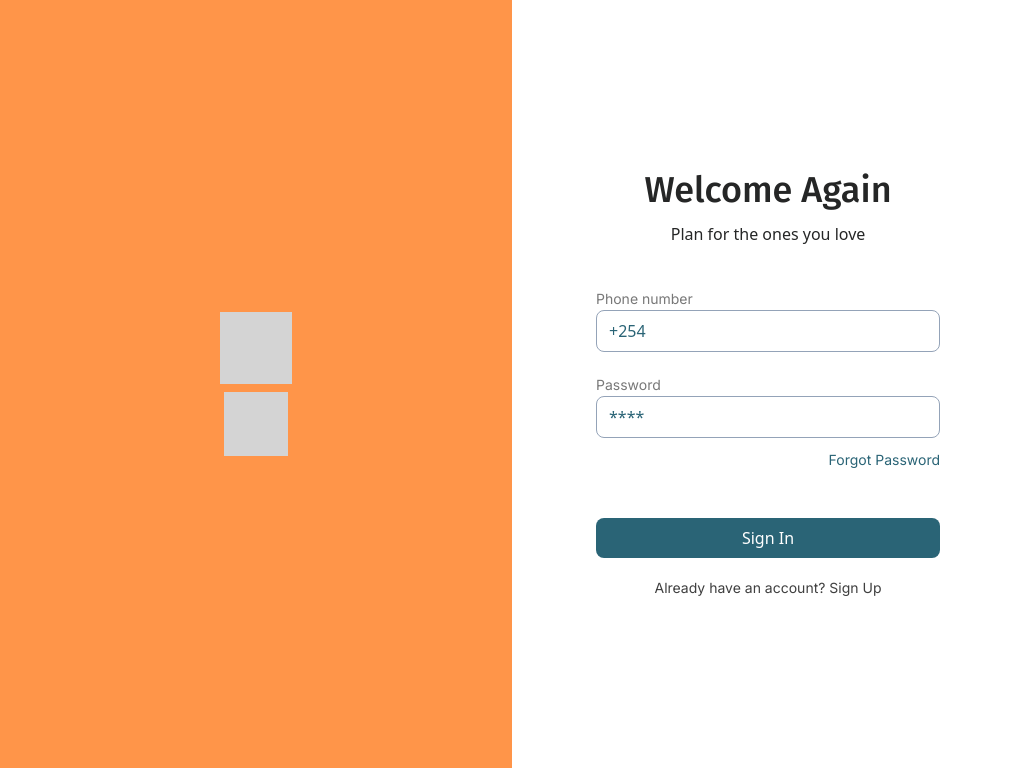
Scenario: Login component › should display error message for wrong credentials
The width and height of the screenshot is (1024, 768).
Note: Enter phone number and password
Type "mockPhone" into the field labelled "Phone number". click: (768, 331)
box: [596,310,940,352]
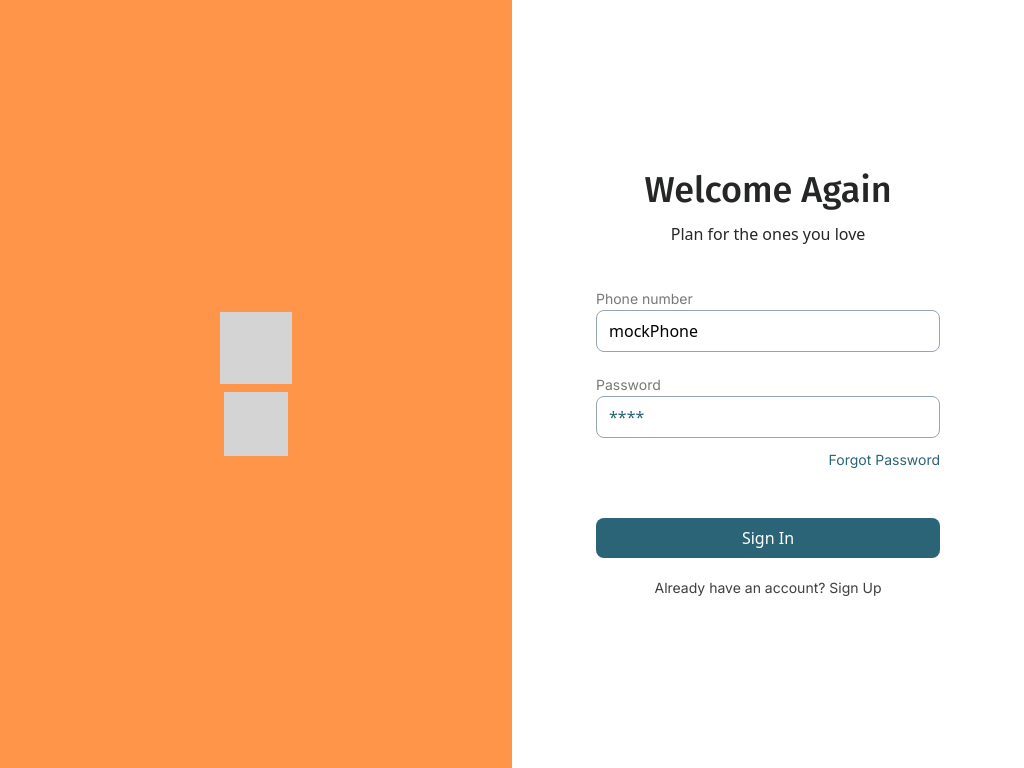
Type "mockPassword" into the password field labelled "Password". click: (768, 417)
box: [596,396,940,438]
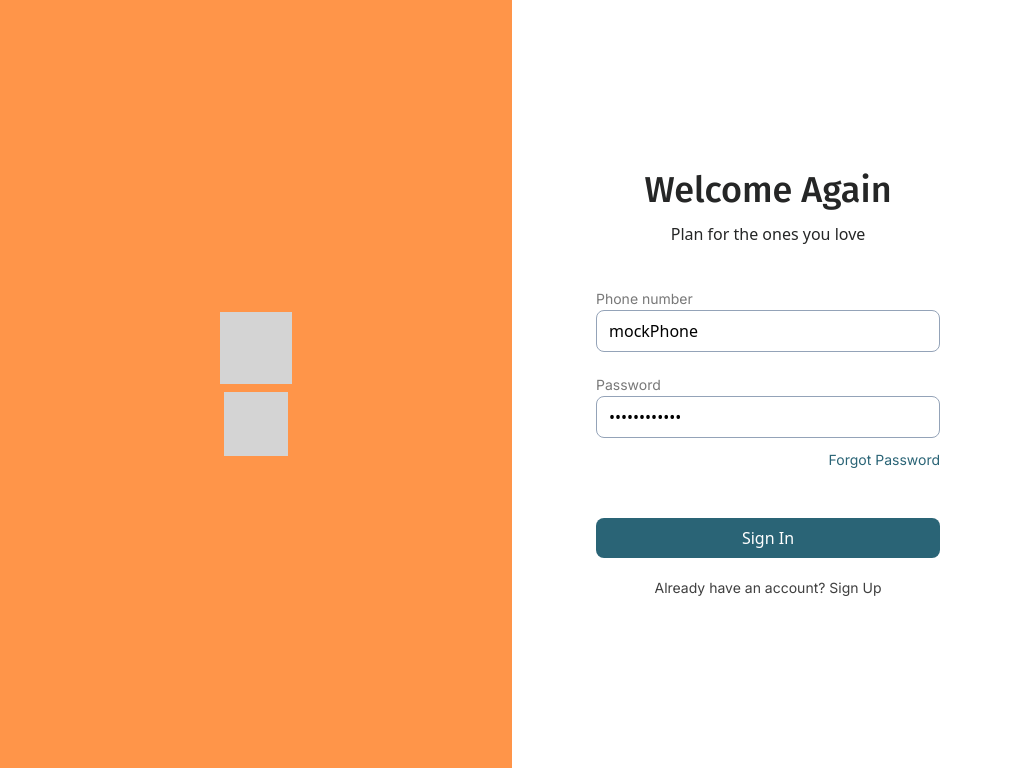
Note: Click the Sign In button
Click the button "Sign In". click: (768, 538)
box: [596,518,940,558]
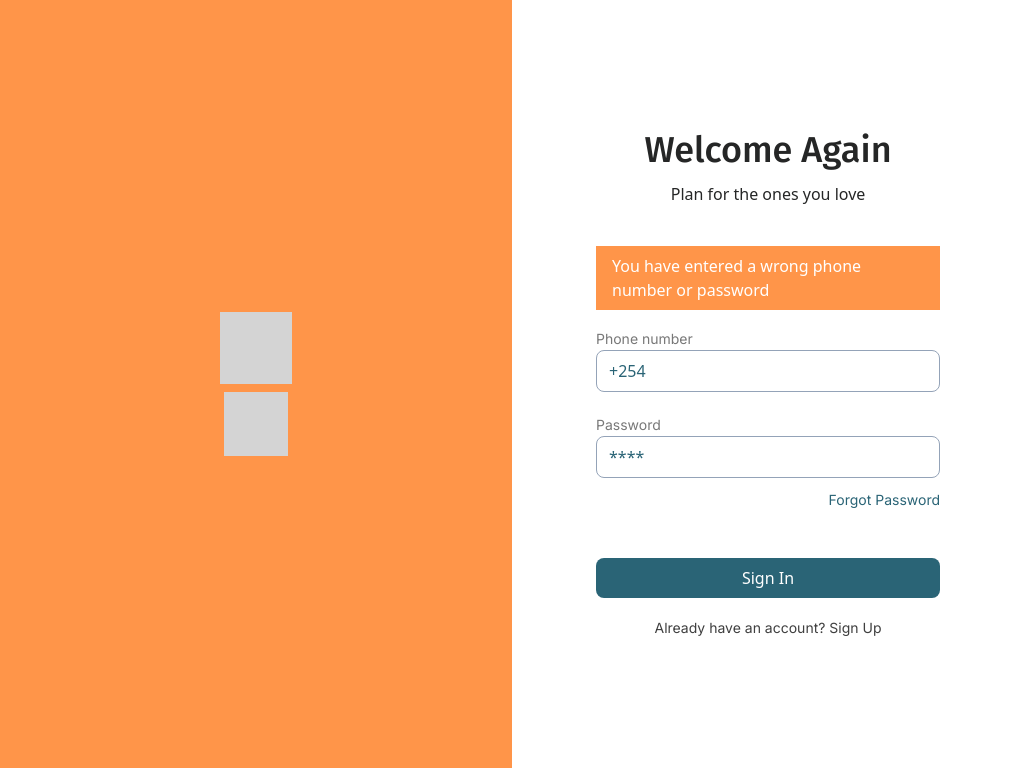
Result: the text "You have entered a wrong phone number or password" is shown at [596,246,940,310]
